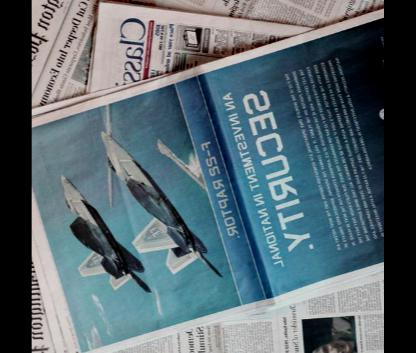F18: (100, 128, 223, 276), (61, 172, 152, 290)
